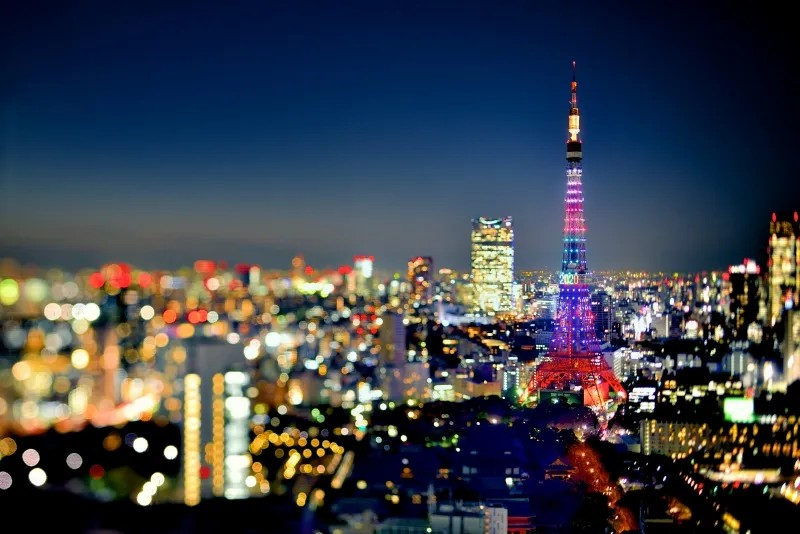Tokyo: (518, 60, 626, 408)
